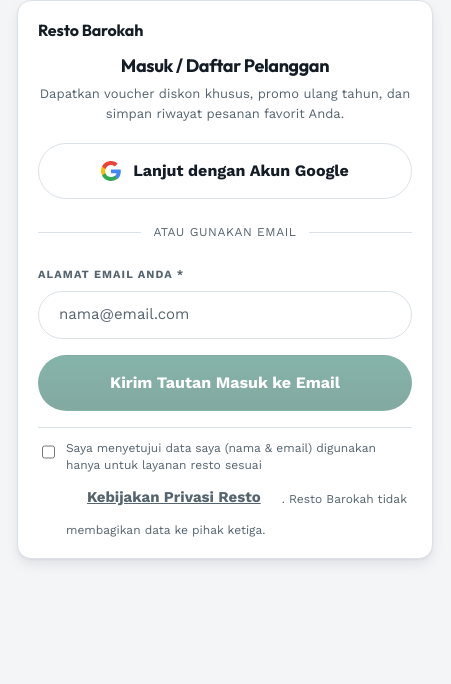
Scenario: LayarMasukPelanggan (T2-04) › mengirim tautan email ketika privasi disetujui dan formulir dikirim
The width and height of the screenshot is (451, 684).
Note: Centang privasi
Click the checkbox: (48, 452) x1=42 y1=443 x2=55 y2=461
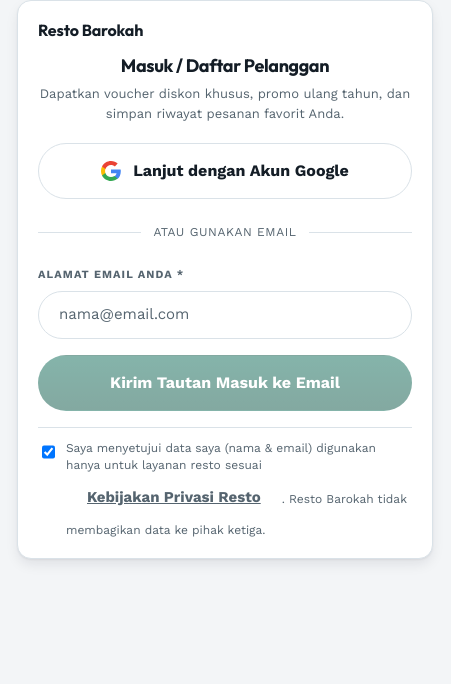
Note: Isi email
In the field labelled "Alamat Email Anda *": (225, 315) x1=38 y1=291 x2=412 y2=339, type "pelanggan@gmail.com"
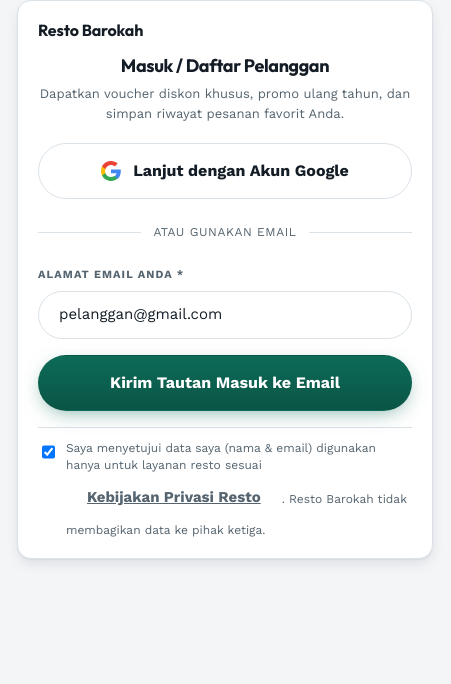
Click the button "Kirim Tautan Masuk ke Email": (225, 383) x1=38 y1=355 x2=412 y2=411
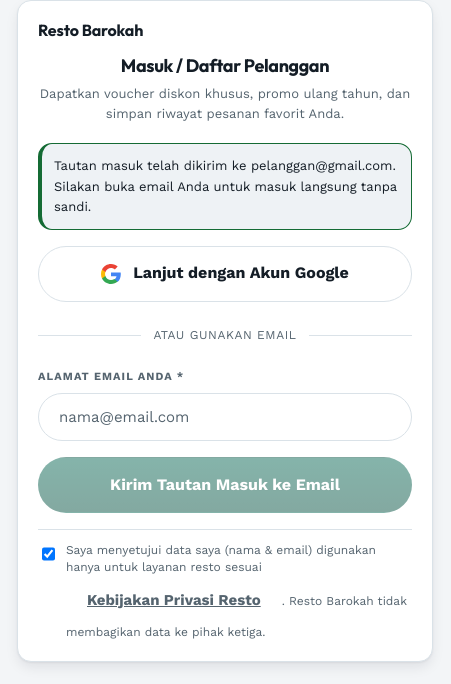
Expected: the message is shown, x1=38 y1=143 x2=412 y2=230
Expected: the text "Tautan masuk telah dikirim" is shown, x1=54 y1=158 x2=397 y2=214
